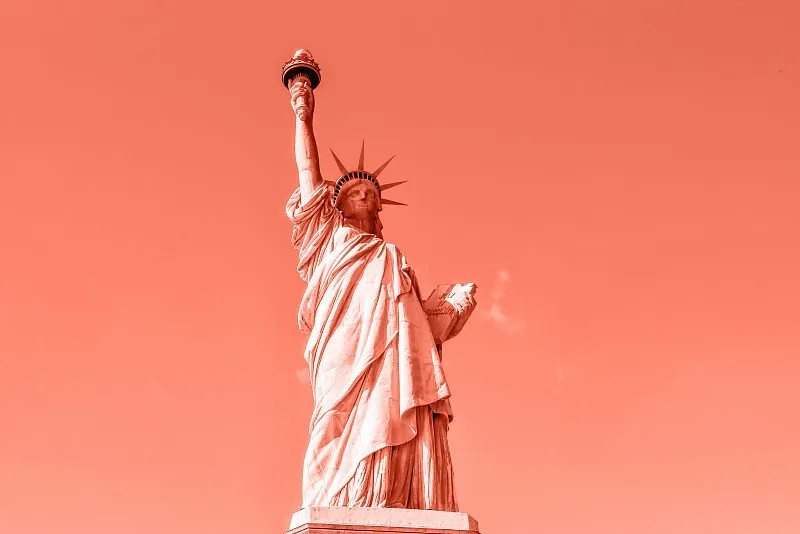SL: (281, 48, 480, 534)
